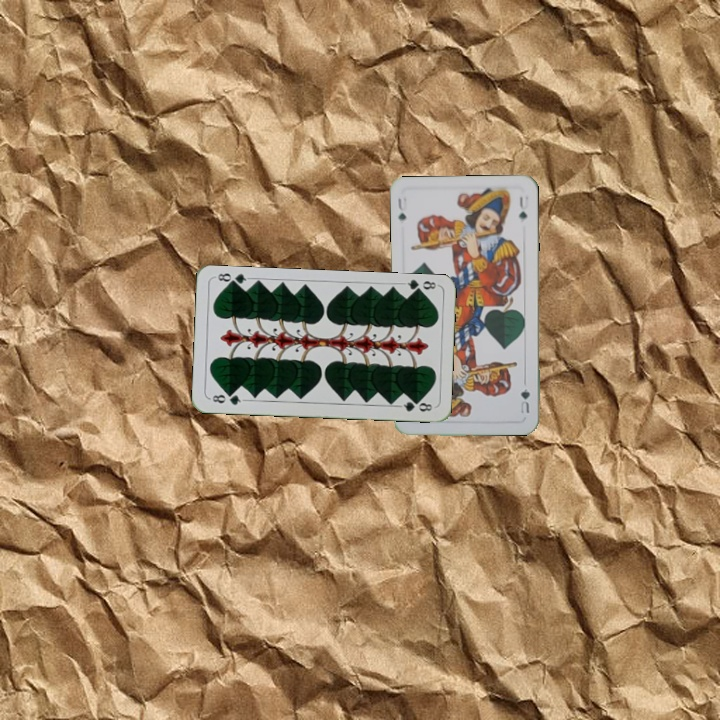G8: (400, 276, 440, 297), (206, 390, 247, 408)
GU: (394, 193, 410, 224), (517, 384, 532, 416)
